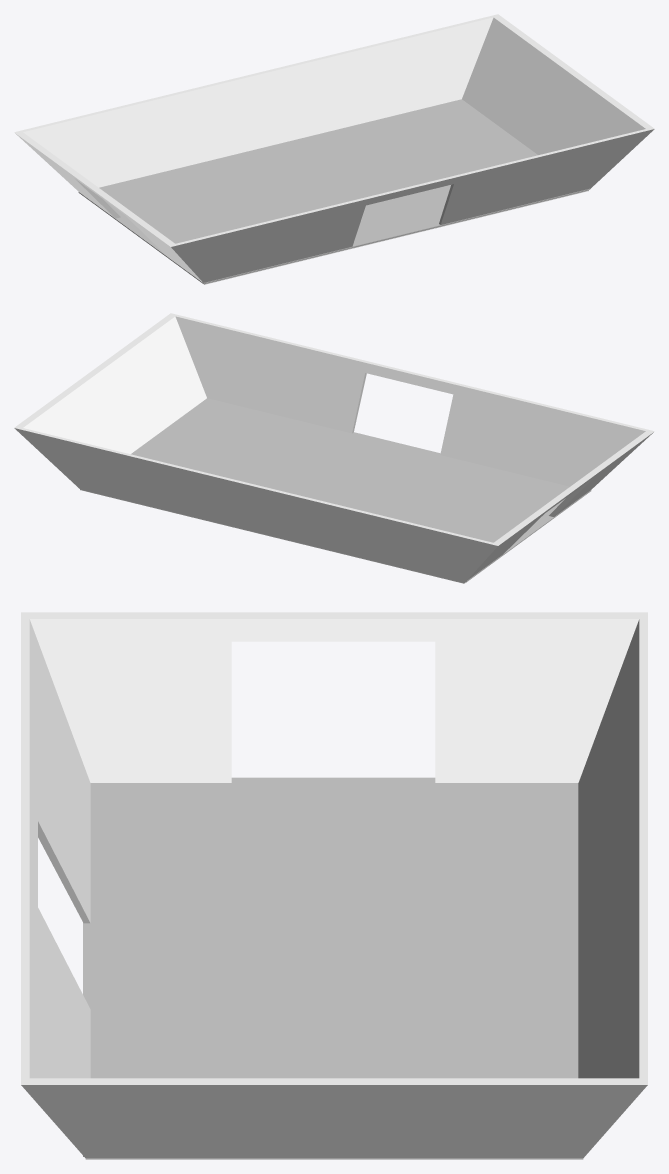
File: LeftBottom.fbx
3 views of the same model, one above another, from view 1: azimuth 30°, elevation 25°; view 2: azimuth 150°, elevation 25°; view 3: azimuth 270°, elevation 25° (orthographic). The views are drawn at different scales.
Parts seen in each view (by area): view 1: Room4, Piso1; view 2: Room4, Piso1; view 3: Room4, Piso1.
Boxes of the visible parts, box(x1,y1,x2,y2) form: Room4: box(14, 14, 654, 284); Piso1: box(78, 99, 590, 283); Room4: box(14, 313, 654, 583); Piso1: box(131, 398, 591, 582); Room4: box(21, 612, 647, 1159); Piso1: box(83, 777, 578, 1156).
Bounding box in the file's own units: 4100 × 500 × 2300.
